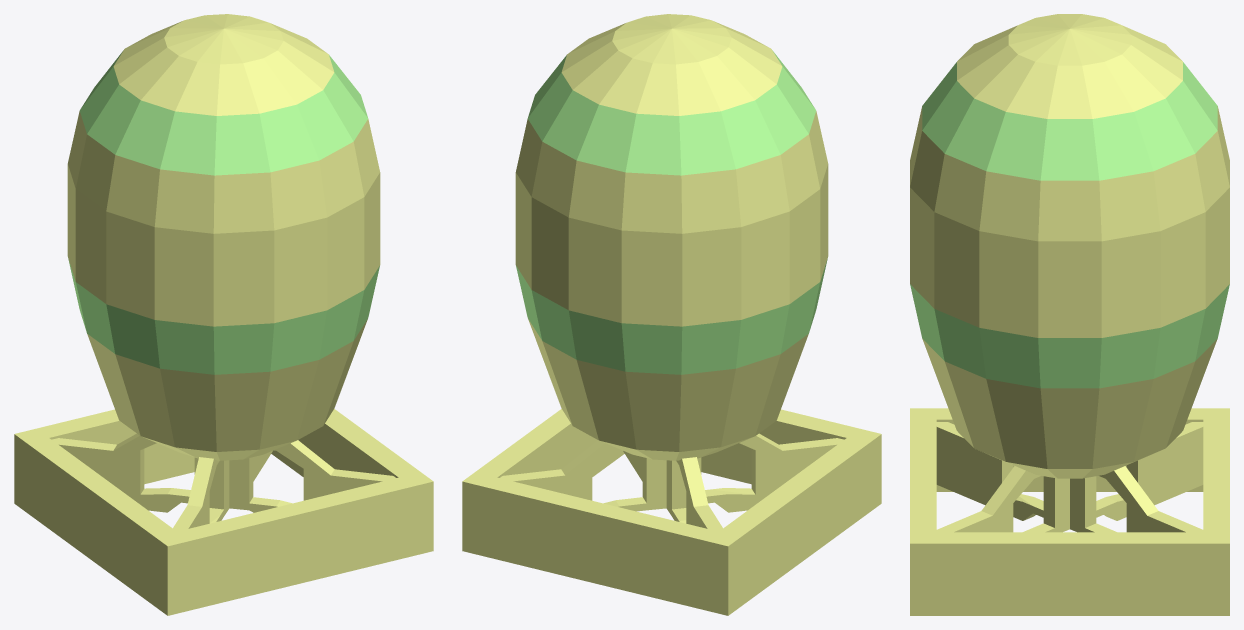
File: Bomb.fbx
The picture shows the model from 3 angles, left to right: view 1: azimuth 30°, elevation 25°; view 2: azimuth 150°, elevation 25°; view 3: azimuth 270°, elevation 25°; orthographic projection. The views are drawn at different scales.
Parts seen in each view (by area): view 1: top, mesh, mesh_1; view 2: top, mesh, mesh_1; view 3: top, mesh, mesh_1.
Part boxes in pixels (<box>): top: <box>67,14,380,460</box>; mesh: <box>14,409,433,615</box>; mesh_1: <box>52,433,395,531</box>; top: <box>515,14,828,460</box>; mesh: <box>462,409,881,615</box>; mesh_1: <box>500,433,843,531</box>; top: <box>910,14,1229,478</box>; mesh: <box>910,408,1229,615</box>; mesh_1: <box>936,422,1203,532</box>.
Size of the model in its own units: 37.5 by 67.19 by 37.5.
Materials: 1 (1 with a texture image).
